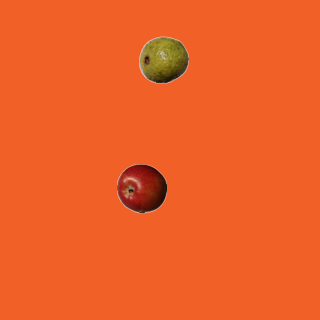Apple Braeburn: (116, 163, 166, 213)
Guava: (138, 34, 188, 84)
